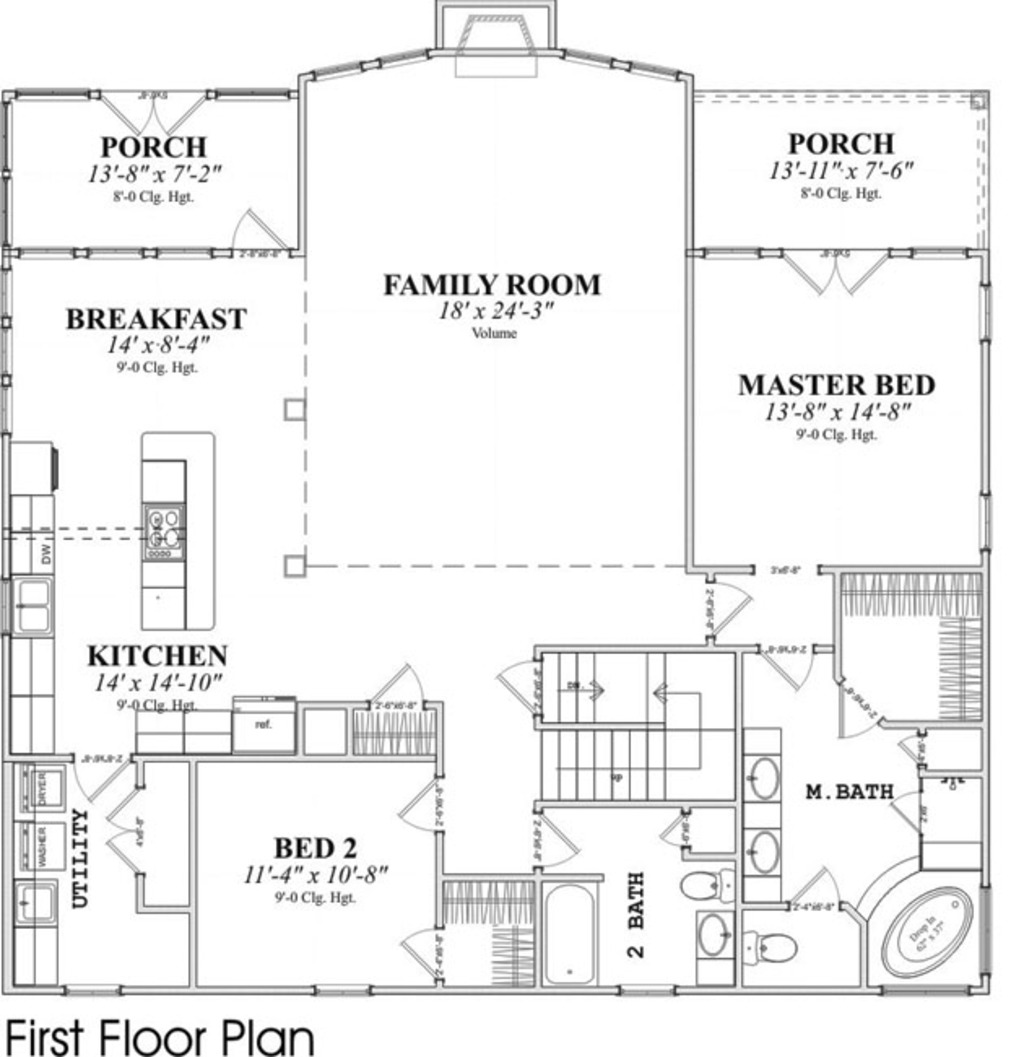door: (785, 249, 890, 296), (99, 91, 209, 134), (226, 207, 289, 258), (748, 646, 815, 692), (830, 683, 876, 744), (71, 749, 131, 795), (367, 662, 431, 705), (111, 793, 147, 869), (532, 816, 579, 874), (494, 659, 541, 716), (394, 775, 439, 834), (705, 579, 751, 634), (393, 925, 436, 975)
kitchen_bar: (134, 429, 218, 633)
large_sink: (740, 923, 798, 969), (672, 866, 735, 905)
small_sink: (741, 825, 784, 883), (742, 747, 778, 816), (693, 906, 733, 964)
stairs: (532, 644, 744, 798)
tub: (879, 882, 978, 982), (538, 882, 594, 984)
twin_sink: (4, 574, 58, 640)
